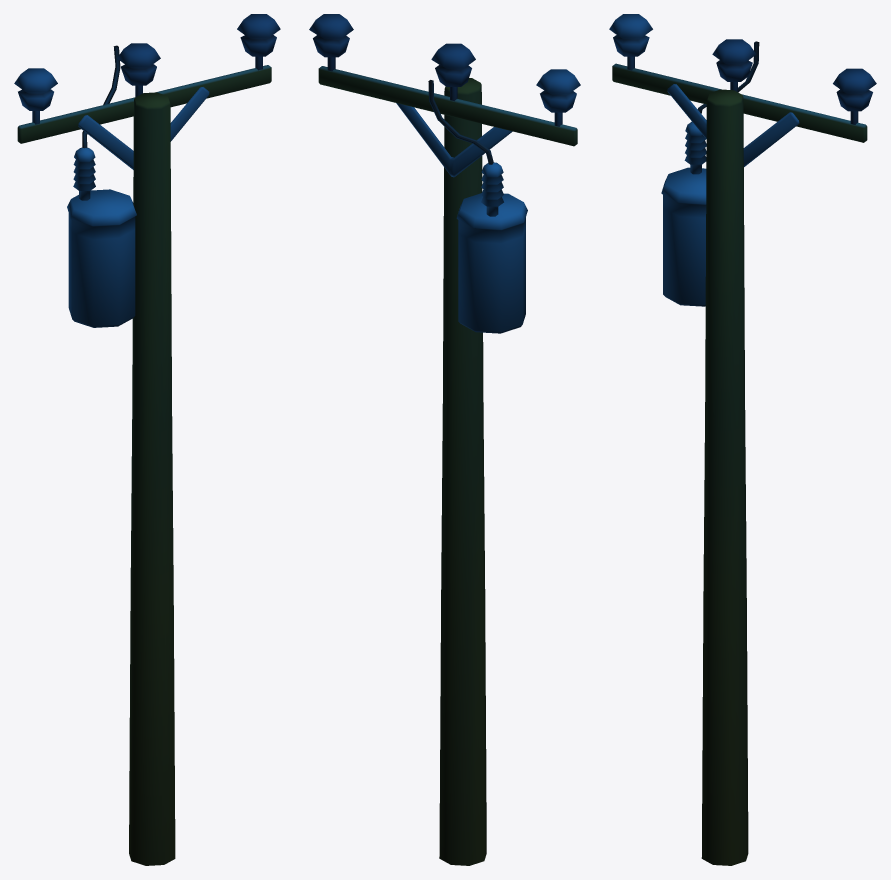
File: TelegraphPole01Night.fbx
The picture shows the model from 3 angles, left to right: view 1: azimuth 30°, elevation 25°; view 2: azimuth 150°, elevation 25°; view 3: azimuth 330°, elevation 25°; orthographic projection.
Parts seen in each view (by area): view 1: TelegraphPole01Night; view 2: TelegraphPole01Night; view 3: TelegraphPole01Night.
Boxes of the visible parts, x1,y1,x2,y2 form: TelegraphPole01Night: (14, 14, 280, 865); TelegraphPole01Night: (309, 14, 580, 865); TelegraphPole01Night: (609, 14, 876, 865).
Size of the model in its own units: 229 by 680 by 71.74.
